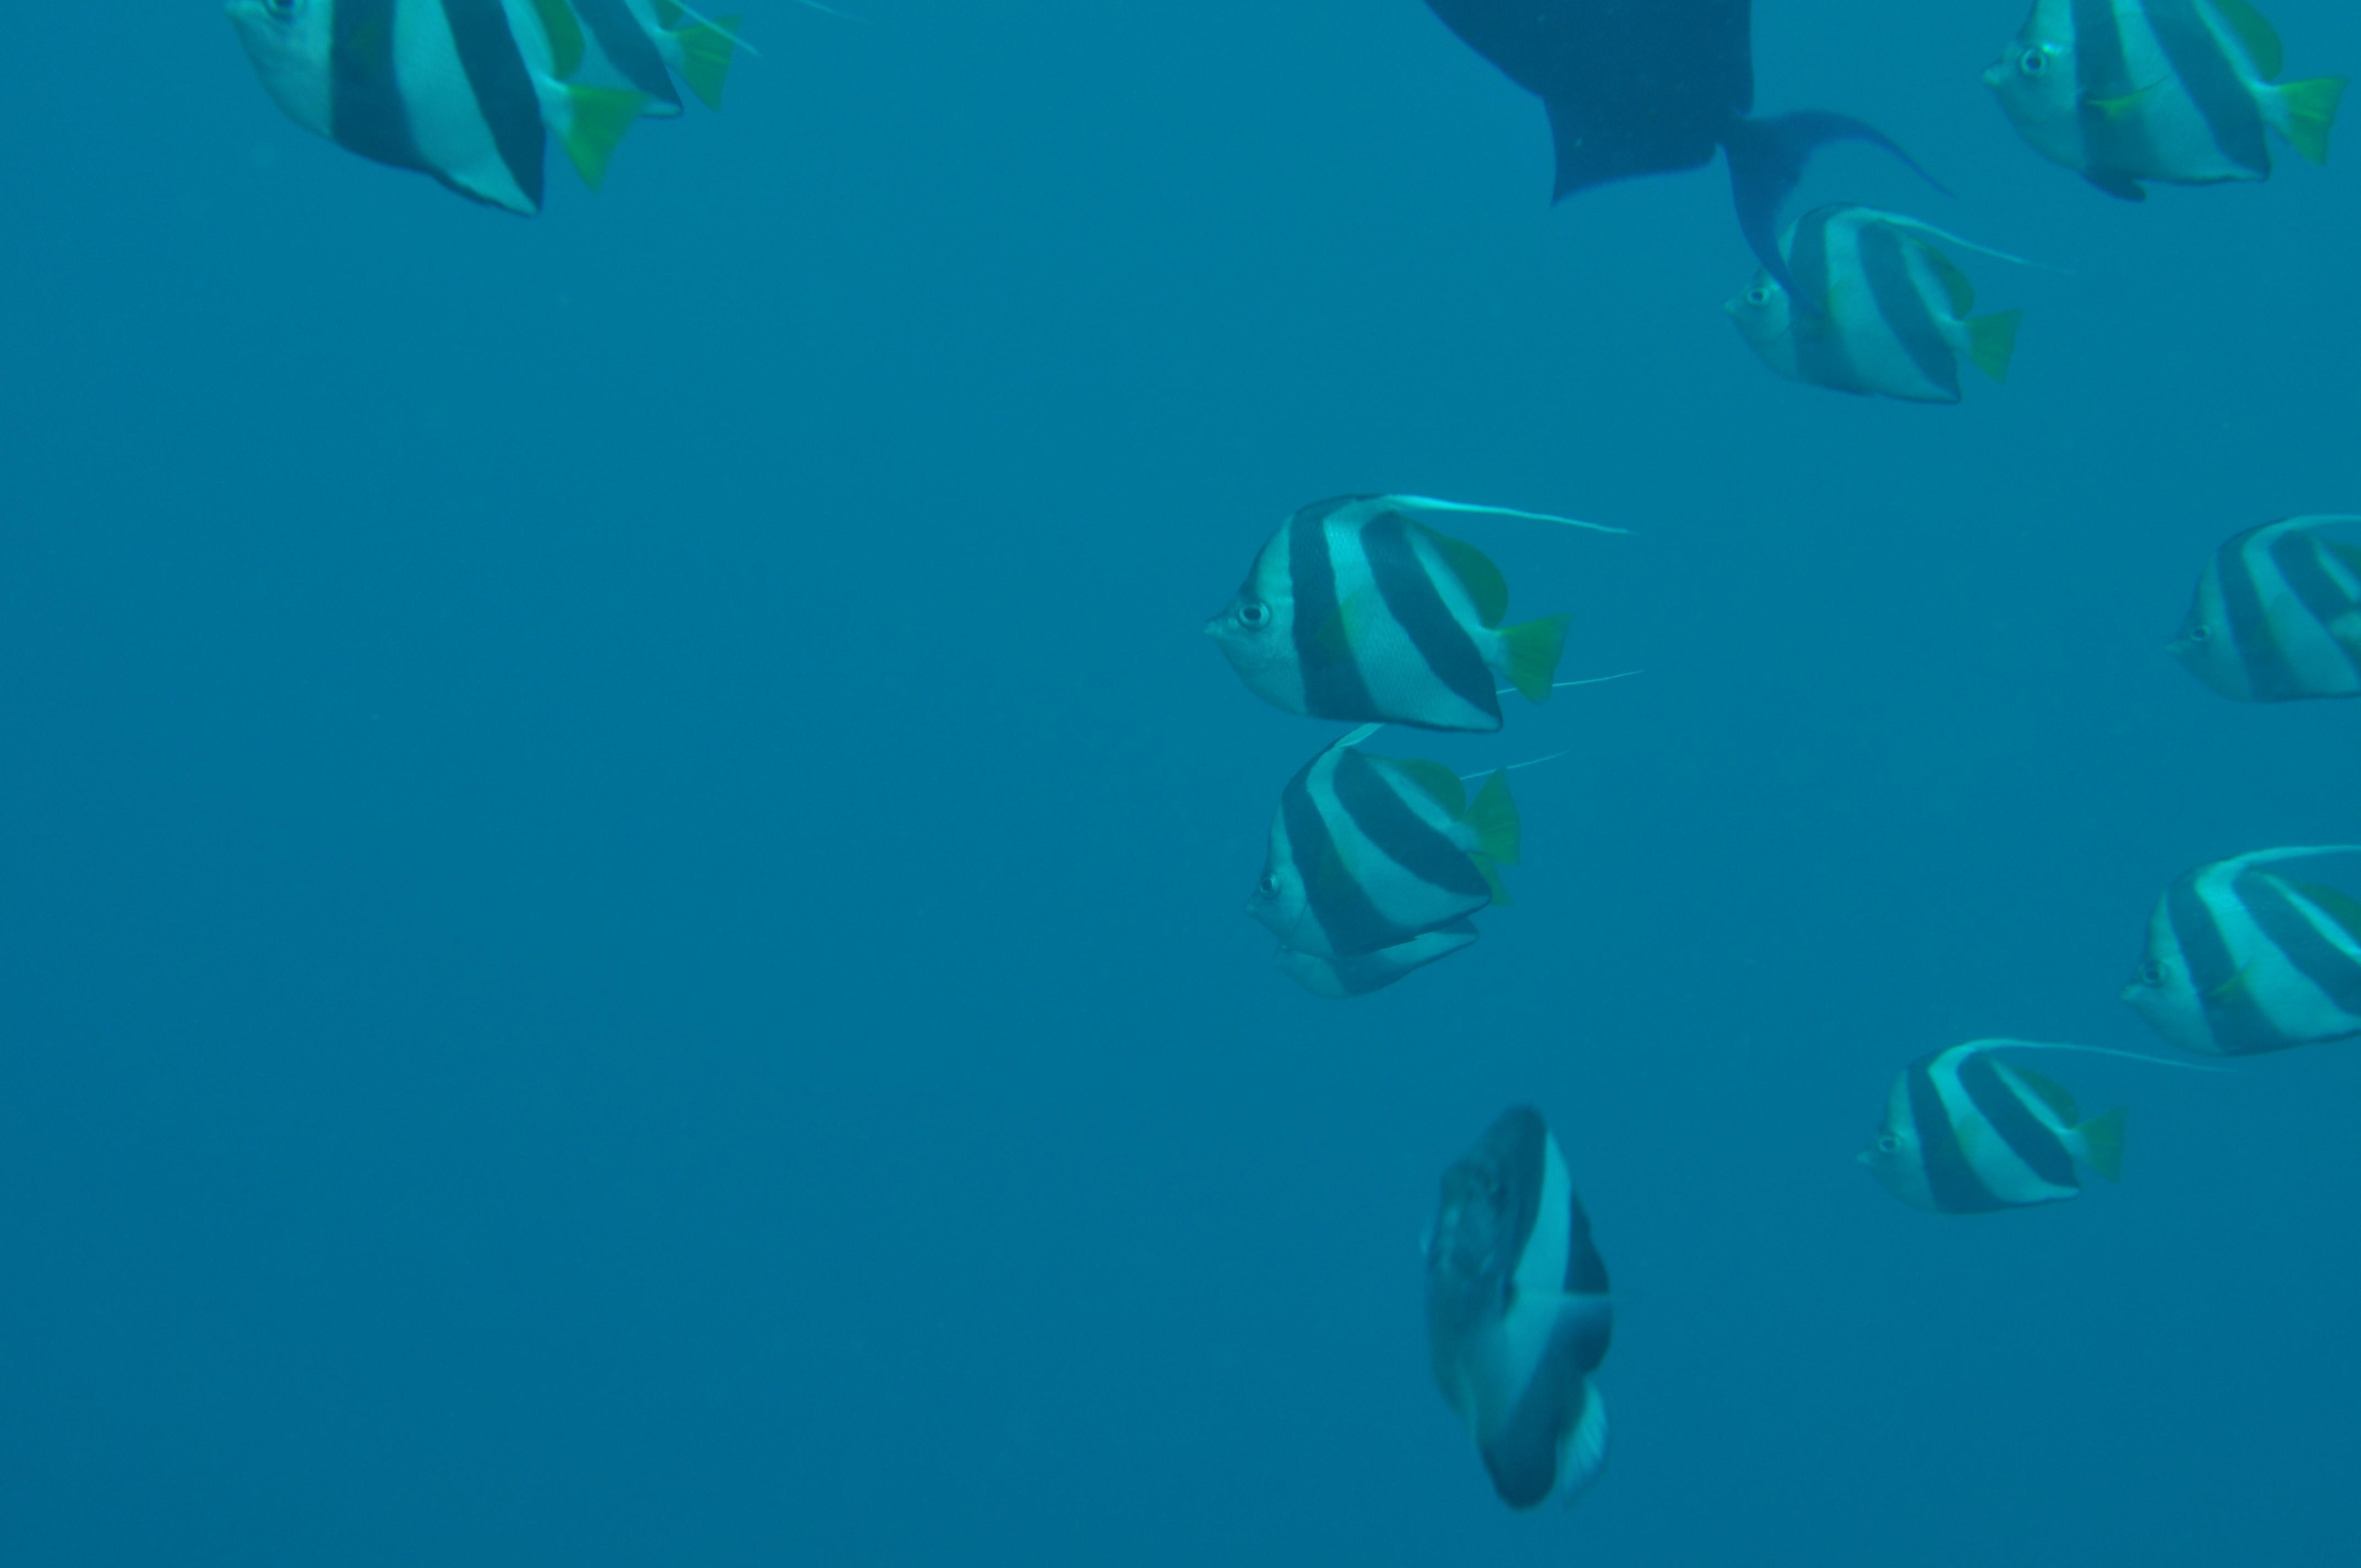Heniochus acuminatus: (1111, 460, 1706, 765), (1332, 1060, 1719, 1524), (1157, 719, 1776, 996), (1666, 152, 2060, 448), (1811, 1010, 2233, 1279), (2076, 815, 2361, 1095), (2119, 467, 2361, 768)
